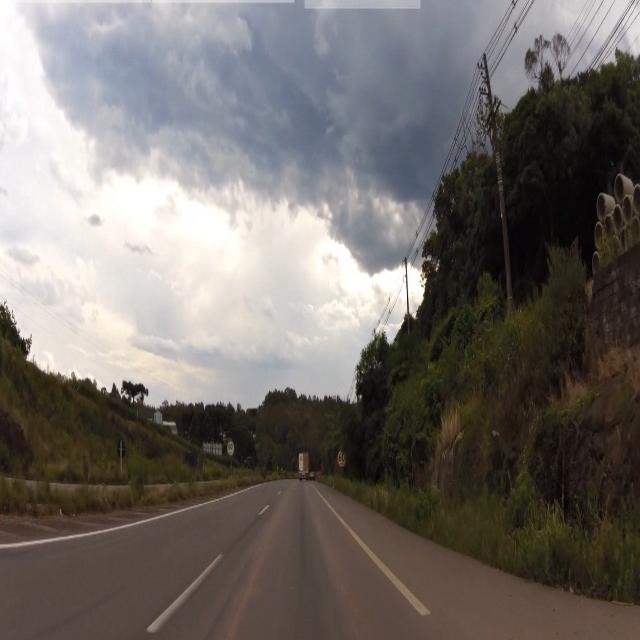R-19: (338, 448, 347, 469)
